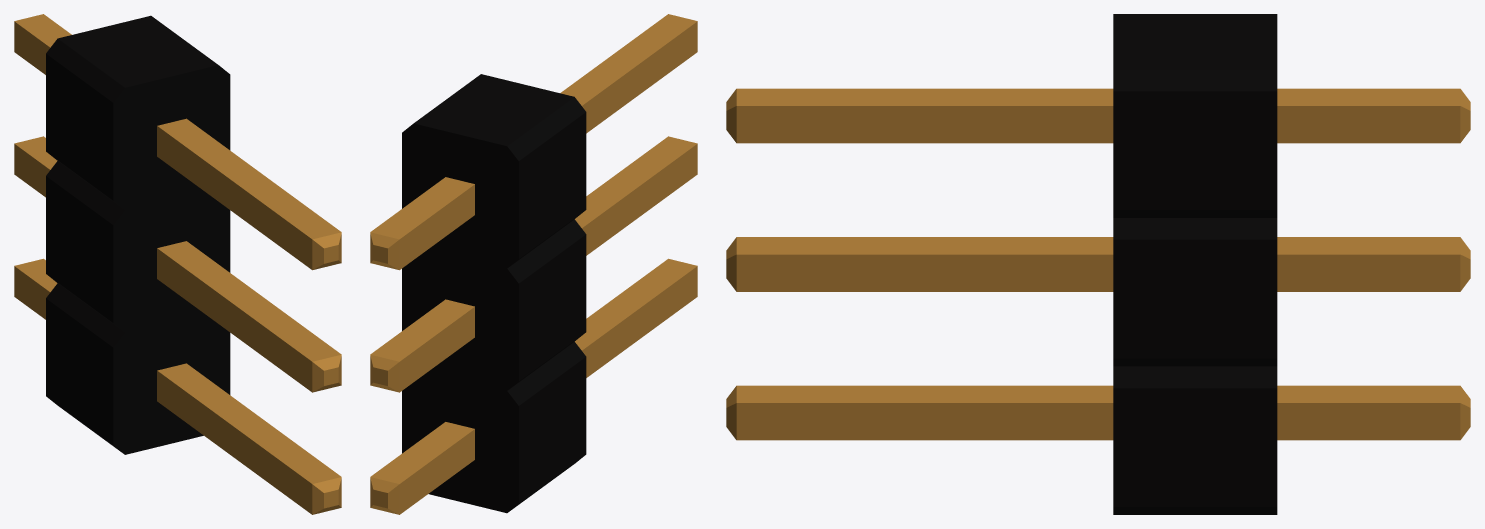
Rendered from pinheader_1x03_p2.54mm_vertical.glb.
3 renders of one model, left to right at view 1: azimuth 30°, elevation 25°; view 2: azimuth 150°, elevation 25°; view 3: azimuth 270°, elevation 25°, orthographic. The views are drawn at different scales.
Visible parts, largest first — view 1: PinHeader_1x03_P2.54mm_Vertical; view 2: PinHeader_1x03_P2.54mm_Vertical; view 3: PinHeader_1x03_P2.54mm_Vertical.
Part boxes in pixels (left/top/right/bottom): PinHeader_1x03_P2.54mm_Vertical: left=14, top=14, right=341, bottom=514; PinHeader_1x03_P2.54mm_Vertical: left=370, top=14, right=697, bottom=514; PinHeader_1x03_P2.54mm_Vertical: left=726, top=14, right=1470, bottom=514.
Bounding box in the file's own units: 2.54 × 7.62 × 11.54.
